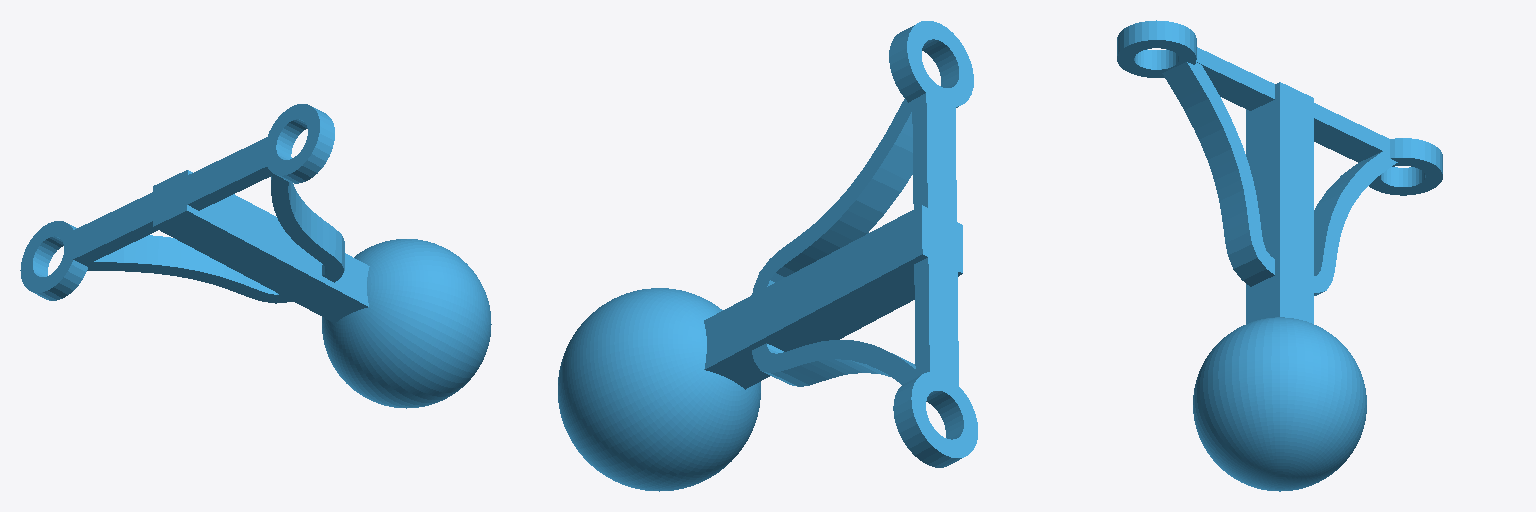
The robot description file, URDF, robot "fr3":
<?xml version="1.0" ?>
<!-- =================================================================================== -->
<!-- |    This document was autogenerated by xacro from urdf/robot/fr3_full_skin.xacro | -->
<!-- |    EDITING THIS FILE BY HAND IS NOT RECOMMENDED                                 | -->
<!-- =================================================================================== -->
<!-- =================================================================================== -->
<!-- |    This document was autogenerated by xacro from fr3.urdf.xacro                 | -->
<!-- |    EDITING THIS FILE BY HAND IS NOT RECOMMENDED                                 | -->
<!-- =================================================================================== -->
<robot name="fr3">
  <!-- safety_distance: Minimum safety distance in [m] by which the collision volumes are expanded and which is enforced during robot motions -->
  <!-- arm_id: Namespace of the robot arm. Serves to differentiate between arms in case of multiple instances. -->
  <!-- joint_limits: description of the joint limits that comes from a YAML file. Example definition: ${xacro.load_yaml('$(find gentact_ros_tools)/robots/fr3/joint_limits.yaml')} -->
  <!-- kinematics: description of the kinematics that comes from a YAML file. Example definition: ${xacro.load_yaml('$(find gentact_ros_tools)/robots/fr3/kinematics.yaml')} -->
  <!-- inertials: description of the inertials that comes from a YAML file. Example definition: ${xacro.load_yaml('$(find gentact_ros_tools)/robots/fr3/inertials.yaml')} -->
  <!-- dynamics: description of the dynamics that comes from a YAML file. Example definition: ${xacro.load_yaml('$(find gentact_ros_tools)/robots/fr3/dynamics.yaml')} -->
  <link name="base">
      </link>
  <joint name="fr3_base_joint" type="fixed">
    <parent link="base"/>
    <child link="fr3_link0"/>
    <origin rpy="0 0 0" xyz="0 0 0"/>
  </joint>
  <!-- sub-link defining detailed meshes for collision with environment -->
  <link name="fr3_link0">
    <visual name="fr3_link0_visual">
      <geometry>
        <mesh filename="package://gentact_ros_tools/meshes/robot_arms/fr3/visual/link0.dae"/>
      </geometry>
    </visual>
    <collision name="fr3_link0_collision">
      <geometry>
        <mesh filename="package://gentact_ros_tools/meshes/robot_arms/fr3/collision/link0.stl"/>
      </geometry>
    </collision>
    <inertial>
      <origin rpy="0 0 0" xyz="-0.0172 0.0004 0.0745"/>
      <mass value="2.3966"/>
      <inertia ixx="0.009" ixy="0.0" ixz="0.002" iyy="0.0115" iyz="0.0" izz="0.0085"/>
    </inertial>
  </link>
  <!-- sub-link defining detailed meshes for collision with environment -->
  <link name="fr3_link1">
    <visual name="fr3_link1_visual">
      <geometry>
        <mesh filename="package://gentact_ros_tools/meshes/robot_arms/fr3/visual/link1.dae"/>
      </geometry>
    </visual>
    <collision name="fr3_link1_collision">
      <geometry>
        <mesh filename="package://gentact_ros_tools/meshes/robot_arms/fr3/collision/link1.stl"/>
      </geometry>
    </collision>
    <inertial>
      <origin rpy="0 0 0" xyz="0.0000004128 -0.0181251324 -0.0386035970"/>
      <mass value="2.9274653454"/>
      <inertia ixx="0.023927316485107913" ixy="1.3317903455714081e-05" ixz="-0.00011404774918616684" iyy="0.0224821613275756" iyz="-0.0019950320628240115" izz="0.006350098258530016"/>
    </inertial>
  </link>
  <joint name="fr3_joint1" type="revolute">
    <origin rpy="0 0 0" xyz="0 0 0.333"/>
    <parent link="fr3_link0"/>
    <child link="fr3_link1"/>
    <axis xyz="0 0 1"/>
    <limit effort="87.0" lower="-2.7437" upper="2.7437" velocity="2.62"/>
    <safety_controller k_position="100.0" k_velocity="40.0" soft_lower_limit="-2.7437" soft_upper_limit="2.7437"/>
    <dynamics D="1" K="7000" damping="0.003" friction="0.2" mu_coulomb="0" mu_viscous="16"/>
  </joint>
  <!-- sub-link defining detailed meshes for collision with environment -->
  <link name="fr3_link2">
    <visual name="fr3_link2_visual">
      <geometry>
        <mesh filename="package://gentact_ros_tools/meshes/robot_arms/fr3/visual/link2.dae"/>
      </geometry>
    </visual>
    <collision name="fr3_link2_collision">
      <geometry>
        <mesh filename="package://gentact_ros_tools/meshes/robot_arms/fr3/collision/link2.stl"/>
      </geometry>
    </collision>
    <inertial>
      <origin rpy="0 0 0" xyz="0.0031828864 -0.0743221644 0.0088146084"/>
      <mass value="2.9355370338"/>
      <inertia ixx="0.041938946257609425" ixy="0.00020257331521090626" ixz="0.004077784227179924" iyy="0.02514514885014724" iyz="-0.0042252158006570156" izz="0.06170214472888839"/>
    </inertial>
  </link>
  <joint name="fr3_joint2" type="revolute">
    <origin rpy="-1.570796326794897 0 0" xyz="0 0 0"/>
    <parent link="fr3_link1"/>
    <child link="fr3_link2"/>
    <axis xyz="0 0 1"/>
    <limit effort="87.0" lower="-1.7837" upper="1.7837" velocity="2.62"/>
    <safety_controller k_position="100.0" k_velocity="40.0" soft_lower_limit="-1.7837" soft_upper_limit="1.7837"/>
    <dynamics D="1" K="7000" damping="0.003" friction="0.2" mu_coulomb="0" mu_viscous="16"/>
  </joint>
  <!-- sub-link defining detailed meshes for collision with environment -->
  <link name="fr3_link3">
    <visual name="fr3_link3_visual">
      <geometry>
        <mesh filename="package://gentact_ros_tools/meshes/robot_arms/fr3/visual/link3.dae"/>
      </geometry>
    </visual>
    <collision name="fr3_link3_collision">
      <geometry>
        <mesh filename="package://gentact_ros_tools/meshes/robot_arms/fr3/collision/link3.stl"/>
      </geometry>
    </collision>
    <inertial>
      <origin rpy="0 0 0" xyz="0.0407015686 -0.0048200565 -0.0289730823"/>
      <mass value="2.2449013699"/>
      <inertia ixx="0.02410142547240885" ixy="0.002404694559042109" ixz="-0.002856269270114313" iyy="0.01974053266708178" iyz="-0.002104212683891874" izz="0.019044494482244823"/>
    </inertial>
  </link>
  <joint name="fr3_joint3" type="revolute">
    <origin rpy="1.570796326794897 0 0" xyz="0 -0.316 0"/>
    <parent link="fr3_link2"/>
    <child link="fr3_link3"/>
    <axis xyz="0 0 1"/>
    <limit effort="87.0" lower="-2.9007" upper="2.9007" velocity="2.62"/>
    <safety_controller k_position="100.0" k_velocity="40.0" soft_lower_limit="-2.9007" soft_upper_limit="2.9007"/>
    <dynamics D="1" K="7000" damping="0.003" friction="0.2" mu_coulomb="0" mu_viscous="16"/>
  </joint>
  <!-- sub-link defining detailed meshes for collision with environment -->
  <link name="fr3_link4">
    <visual name="fr3_link4_visual">
      <geometry>
        <mesh filename="package://gentact_ros_tools/meshes/robot_arms/fr3/visual/link4.dae"/>
      </geometry>
    </visual>
    <collision name="fr3_link4_collision">
      <geometry>
        <mesh filename="package://gentact_ros_tools/meshes/robot_arms/fr3/collision/link4.stl"/>
      </geometry>
    </collision>
    <inertial>
      <origin rpy="0 0 0" xyz="-0.0459100965 0.0630492960 -0.0085187868"/>
      <mass value="2.6155955791"/>
      <inertia ixx="0.03452998321913202" ixy="0.01322552265982813" ixz="0.01015142998484113" iyy="0.028881621933049058" iyz="-0.0009762833870704552" izz="0.04125471171146641"/>
    </inertial>
  </link>
  <joint name="fr3_joint4" type="revolute">
    <origin rpy="1.570796326794897 0 0" xyz="0.0825 0 0"/>
    <parent link="fr3_link3"/>
    <child link="fr3_link4"/>
    <axis xyz="0 0 1"/>
    <limit effort="87.0" lower="-3.0421" upper="-0.1518" velocity="2.62"/>
    <safety_controller k_position="100.0" k_velocity="40.0" soft_lower_limit="-3.0421" soft_upper_limit="-0.1518"/>
    <dynamics D="1" K="7000" damping="0.003" friction="0.2" mu_coulomb="0" mu_viscous="16"/>
  </joint>
  <!-- sub-link defining detailed meshes for collision with environment -->
  <link name="fr3_link5">
    <visual name="fr3_link5_visual">
      <geometry>
        <mesh filename="package://gentact_ros_tools/meshes/robot_arms/fr3/visual/link5.dae"/>
      </geometry>
    </visual>
    <collision name="fr3_link5_collision">
      <geometry>
        <mesh filename="package://gentact_ros_tools/meshes/robot_arms/fr3/collision/link5.stl"/>
      </geometry>
    </collision>
    <inertial>
      <origin rpy="0 0 0" xyz="-0.0016039605 0.0292536262 -0.0972965990"/>
      <mass value="2.3271207594"/>
      <inertia ixx="0.051610278463662895" ixy="-0.005715173387783472" ixz="-0.0035673167625872135" iyy="0.04787729713371481" iyz="0.010673985108535986" izz="0.016423625579357254"/>
    </inertial>
  </link>
  <joint name="fr3_joint5" type="revolute">
    <origin rpy="-1.570796326794897 0 0" xyz="-0.0825 0.384 0"/>
    <parent link="fr3_link4"/>
    <child link="fr3_link5"/>
    <axis xyz="0 0 1"/>
    <limit effort="12.0" lower="-2.8065" upper="2.8065" velocity="5.26"/>
    <safety_controller k_position="100.0" k_velocity="40.0" soft_lower_limit="-2.8065" soft_upper_limit="2.8065"/>
    <dynamics D="1" K="7000" damping="0.003" friction="0.2" mu_coulomb="0" mu_viscous="16"/>
  </joint>
  <!-- sub-link defining detailed meshes for collision with environment -->
  <link name="fr3_link6">
    <visual name="fr3_link6_visual">
      <geometry>
        <mesh filename="package://gentact_ros_tools/meshes/robot_arms/fr3/visual/link6.dae"/>
      </geometry>
    </visual>
    <collision name="fr3_link6_collision">
      <geometry>
        <mesh filename="package://gentact_ros_tools/meshes/robot_arms/fr3/collision/link6.stl"/>
      </geometry>
    </collision>
    <inertial>
      <origin rpy="0 0 0" xyz="0.0597131221 -0.0410294666 -0.0101692726"/>
      <mass value="1.8170376524"/>
      <inertia ixx="0.005412333594383447" ixy="0.006193456360285834" ixz="0.0014219289306117652" iyy="0.014058329545509979" iyz="-0.0013140753741120031" izz="0.016080817924212554"/>
    </inertial>
  </link>
  <joint name="fr3_joint6" type="revolute">
    <origin rpy="1.570796326794897 0 0" xyz="0 0 0"/>
    <parent link="fr3_link5"/>
    <child link="fr3_link6"/>
    <axis xyz="0 0 1"/>
    <limit effort="12.0" lower="0.5445" upper="4.5169" velocity="4.18"/>
    <safety_controller k_position="100.0" k_velocity="40.0" soft_lower_limit="0.5445" soft_upper_limit="4.5169"/>
    <dynamics D="1" K="7000" damping="0.003" friction="0.2" mu_coulomb="0" mu_viscous="16"/>
  </joint>
  <!-- sub-link defining detailed meshes for collision with environment -->
  <link name="fr3_link7">
    <visual name="fr3_link7_visual">
      <geometry>
        <mesh filename="package://gentact_ros_tools/meshes/robot_arms/fr3/visual/link7.dae"/>
      </geometry>
    </visual>
    <collision name="fr3_link7_collision">
      <geometry>
        <mesh filename="package://gentact_ros_tools/meshes/robot_arms/fr3/collision/link7.stl"/>
      </geometry>
    </collision>
    <inertial>
      <origin rpy="0 0 0" xyz="0.0045225817 0.0086261921 -0.0161633251"/>
      <mass value="0.6271432862"/>
      <inertia ixx="0.00021092389150104718" ixy="-2.433299114461931e-05" ixz="4.564480393778983e-05" iyy="0.00017718568002411474" iyz="8.744070223226438e-05" izz="5.993190599659971e-05"/>
    </inertial>
  </link>
  <joint name="fr3_joint7" type="revolute">
    <origin rpy="1.570796326794897 0 0" xyz="0.088 0 0"/>
    <parent link="fr3_link6"/>
    <child link="fr3_link7"/>
    <axis xyz="0 0 1"/>
    <limit effort="12.0" lower="-3.0159" upper="3.0159" velocity="5.26"/>
    <safety_controller k_position="100.0" k_velocity="40.0" soft_lower_limit="-3.0159" soft_upper_limit="3.0159"/>
    <dynamics D="1" K="7000" damping="0.003" friction="0.2" mu_coulomb="0" mu_viscous="16"/>
  </joint>
  <link name="end_effector">
    <visual>
      <origin rpy="0 0 0" xyz="0 0 0"/>
      <geometry>
        <mesh filename="package://gentact_ros_tools/meshes/end_effectors/sphere_tip3.stl" scale="1 1 1"/>
      </geometry>
    </visual>
  </link>
  <joint name="end_effector_joint" type="fixed">
    <origin rpy="0 0 0.785398" xyz="0 0 0.107"/>
    <parent link="fr3_link7"/>
    <child link="end_effector"/>
  </joint>
  <link name="end_effector_tip">
    <visual>
      <origin rpy="0 0 0" xyz="0 0 0"/>
      <geometry>
        <sphere radius="0.005"/>
      </geometry>
    </visual>
  </link>
  <joint name="end_effector_tip_joint" type="fixed">
    <origin rpy="0 0 0" xyz="0 0 0.051"/>
    <parent link="end_effector"/>
    <child link="end_effector_tip"/>
  </joint>
</robot>

--- What the picture shows (computed from the rendered views, not written in the file) ---
3 views of the same robot in one strip: view 1: azimuth 30°, elevation 25°; view 2: azimuth 150°, elevation 25°; view 3: azimuth 270°, elevation 25° (orthographic).
Model fr3 with 11 links and 10 joints (7 revolute, 3 fixed), rooted at base, posed joints at zero except 2 at the middle of their limits (fr3_joint4 = -1.6, fr3_joint6 = 2.53).
Visible links, largest first — view 1: end_effector; view 2: end_effector; view 3: end_effector.
Link boxes in pixels (left/top/right/bottom): end_effector: left=20, top=104, right=491, bottom=408; end_effector: left=558, top=21, right=977, bottom=491; end_effector: left=1117, top=20, right=1442, bottom=491.
Size in the robot's own frame: 0.0666 by 0.0468 by 0.0611 metres.
1 mesh visuals loaded from 9 distinct referenced files (1 binary STL); not drawn: 8 (reference not matched to a file when rendering).